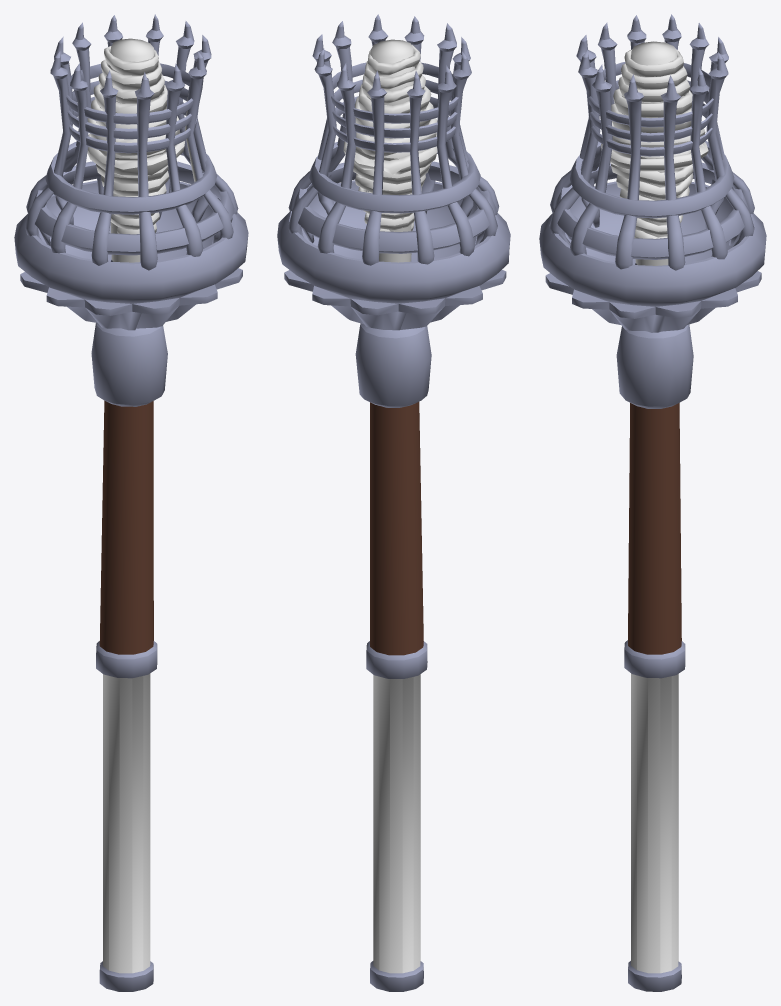
Rendered from antorcha1.fbx.
3 renders of one model, left to right at view 1: azimuth 30°, elevation 25°; view 2: azimuth 150°, elevation 25°; view 3: azimuth 270°, elevation 25°, orthographic.
Visible parts, largest first — view 1: antorcha; view 2: antorcha; view 3: antorcha.
Part boxes in pixels (left/top/right/bottom): antorcha: left=14, top=14, right=248, bottom=991; antorcha: left=277, top=14, right=510, bottom=991; antorcha: left=539, top=14, right=766, bottom=991.
Bounding box in the file's own units: 17.91 × 79.01 × 17.22.
